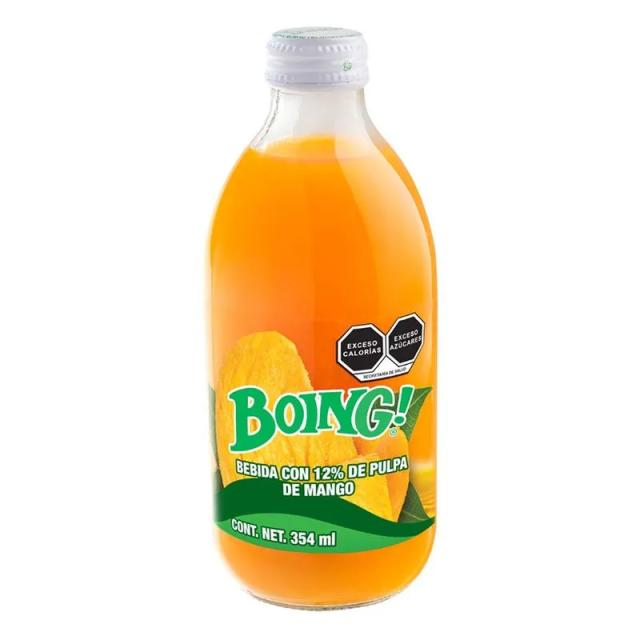Botella: (195, 13, 451, 620)
